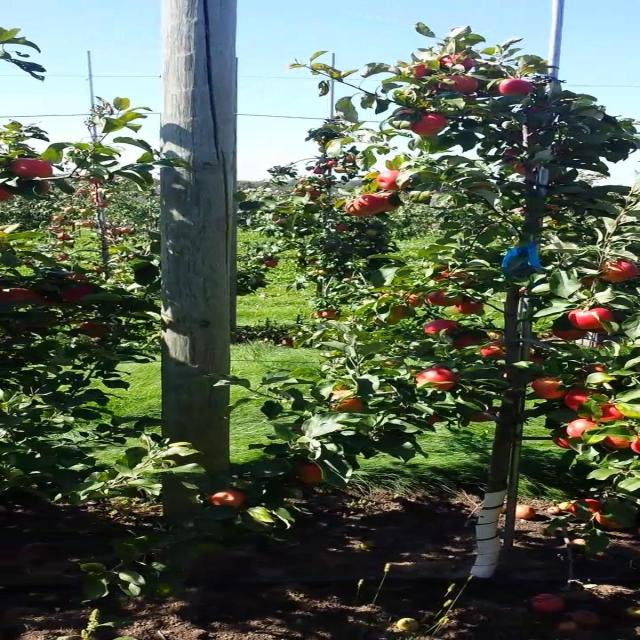apple: (568, 308, 615, 331), (419, 368, 457, 391), (412, 112, 448, 136), (13, 160, 55, 180), (604, 260, 639, 283), (440, 76, 482, 95), (376, 172, 412, 192), (333, 392, 366, 412), (568, 388, 596, 411), (532, 380, 564, 400), (212, 492, 249, 509), (440, 268, 473, 287), (63, 284, 94, 304), (497, 80, 535, 96), (355, 196, 389, 213), (6, 288, 41, 304), (568, 420, 597, 439), (426, 320, 460, 336), (298, 464, 325, 484), (596, 512, 624, 531), (568, 500, 601, 516), (440, 56, 476, 70), (433, 292, 464, 308), (575, 364, 608, 379), (369, 196, 398, 213), (433, 268, 468, 282), (604, 432, 631, 450), (355, 196, 379, 216), (70, 284, 94, 303), (348, 200, 375, 216), (554, 328, 588, 340), (604, 404, 626, 422), (461, 300, 484, 316), (84, 324, 112, 337), (454, 336, 482, 349), (483, 344, 505, 359), (35, 164, 57, 179), (390, 304, 412, 319), (412, 64, 432, 79), (404, 296, 428, 308), (468, 412, 492, 424), (582, 364, 608, 375), (511, 164, 532, 176), (319, 308, 340, 320), (383, 196, 398, 212), (582, 276, 601, 287), (1, 188, 14, 201), (504, 148, 519, 159), (70, 272, 87, 281), (426, 416, 444, 424), (554, 440, 571, 448), (532, 356, 548, 364), (632, 436, 639, 454), (42, 300, 59, 307), (42, 184, 50, 193)
